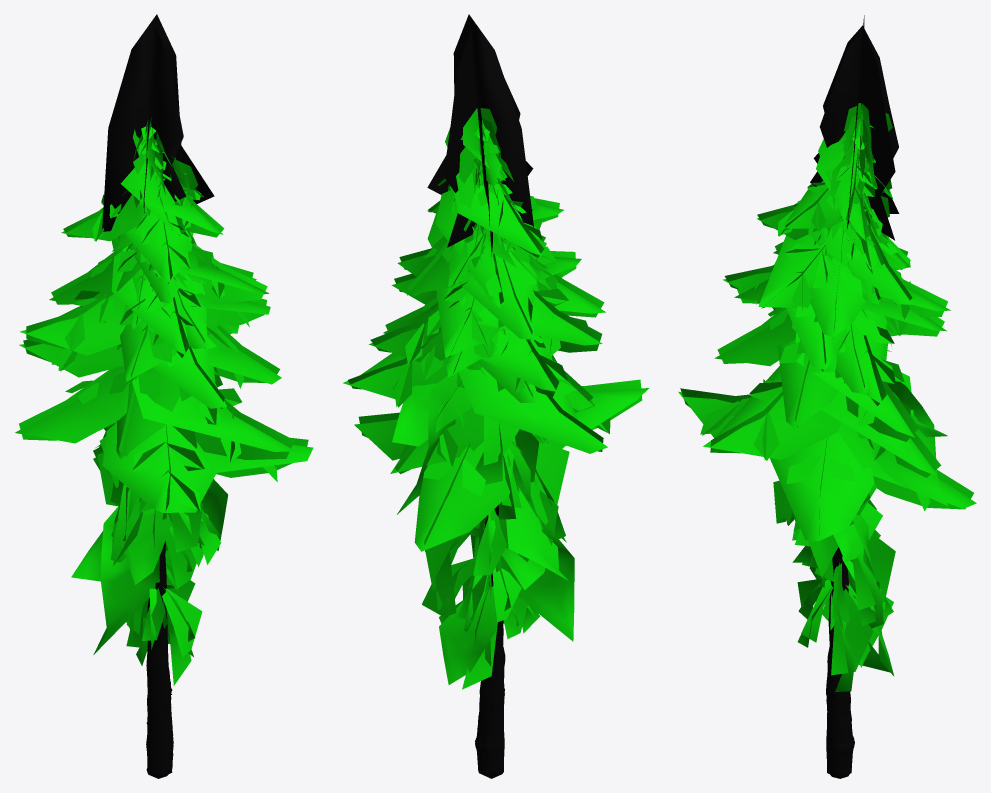
The model's file is pine_004_3.FBX.
The picture shows the model from 3 angles, left to right: view 1: azimuth 30°, elevation 25°; view 2: azimuth 150°, elevation 25°; view 3: azimuth 270°, elevation 25°; orthographic projection. The views are drawn at different scales.
Visible parts, largest first — view 1: pine_004_03_LOD0; view 2: pine_004_03_LOD0; view 3: pine_004_03_LOD0.
Boxes of the visible parts, x1,y1,x2,y2 form: pine_004_03_LOD0: (15,14,313,778); pine_004_03_LOD0: (343,14,648,778); pine_004_03_LOD0: (678,15,976,778).
Size of what is drawn, in the model's own units: 318 by 836 by 294.
